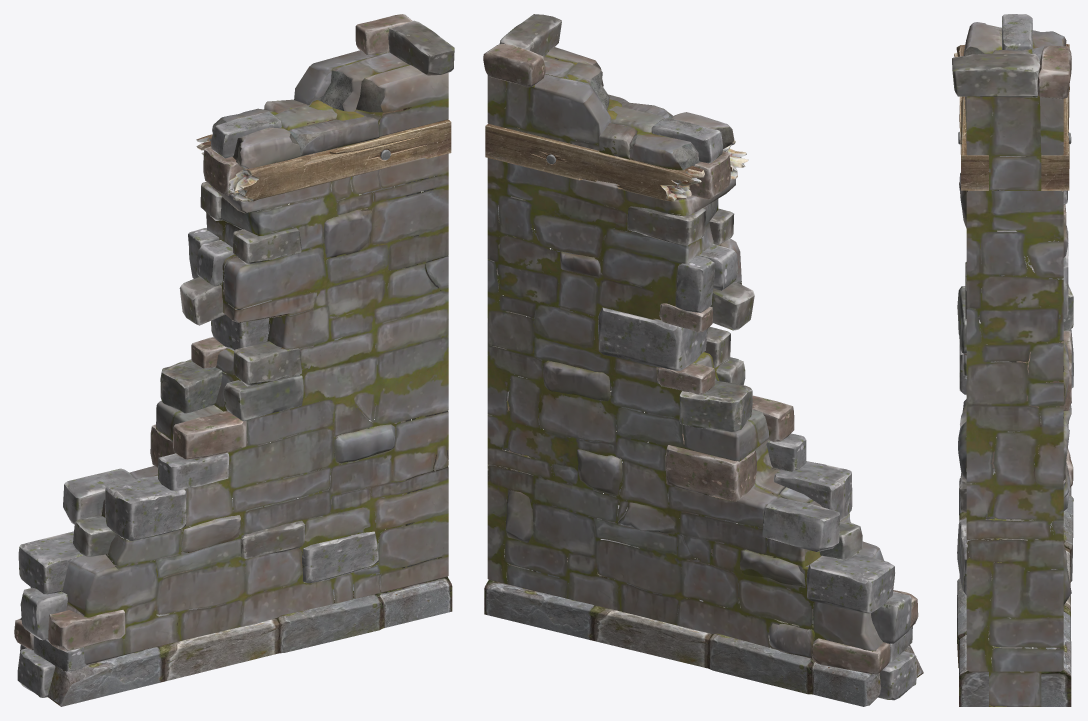
The picture shows the model from 3 angles, left to right: view 1: azimuth 30°, elevation 25°; view 2: azimuth 150°, elevation 25°; view 3: azimuth 270°, elevation 25°; orthographic projection. The views are drawn at different scales.
Visible parts, largest first — view 1: SM_Castle_Wall_4x6_01_Dmg_v2_LOD0; view 2: SM_Castle_Wall_4x6_01_Dmg_v2_LOD0; view 3: SM_Castle_Wall_4x6_01_Dmg_v2_LOD0.
Boxes of the visible parts, x1,y1,x2,y2 form: SM_Castle_Wall_4x6_01_Dmg_v2_LOD0: (14,14,454,706); SM_Castle_Wall_4x6_01_Dmg_v2_LOD0: (483,14,923,706); SM_Castle_Wall_4x6_01_Dmg_v2_LOD0: (952,14,1073,706).
Size of the model in its own units: 4.03 by 5.46 by 0.9429.
Materials: 5 (5 with a texture image).
